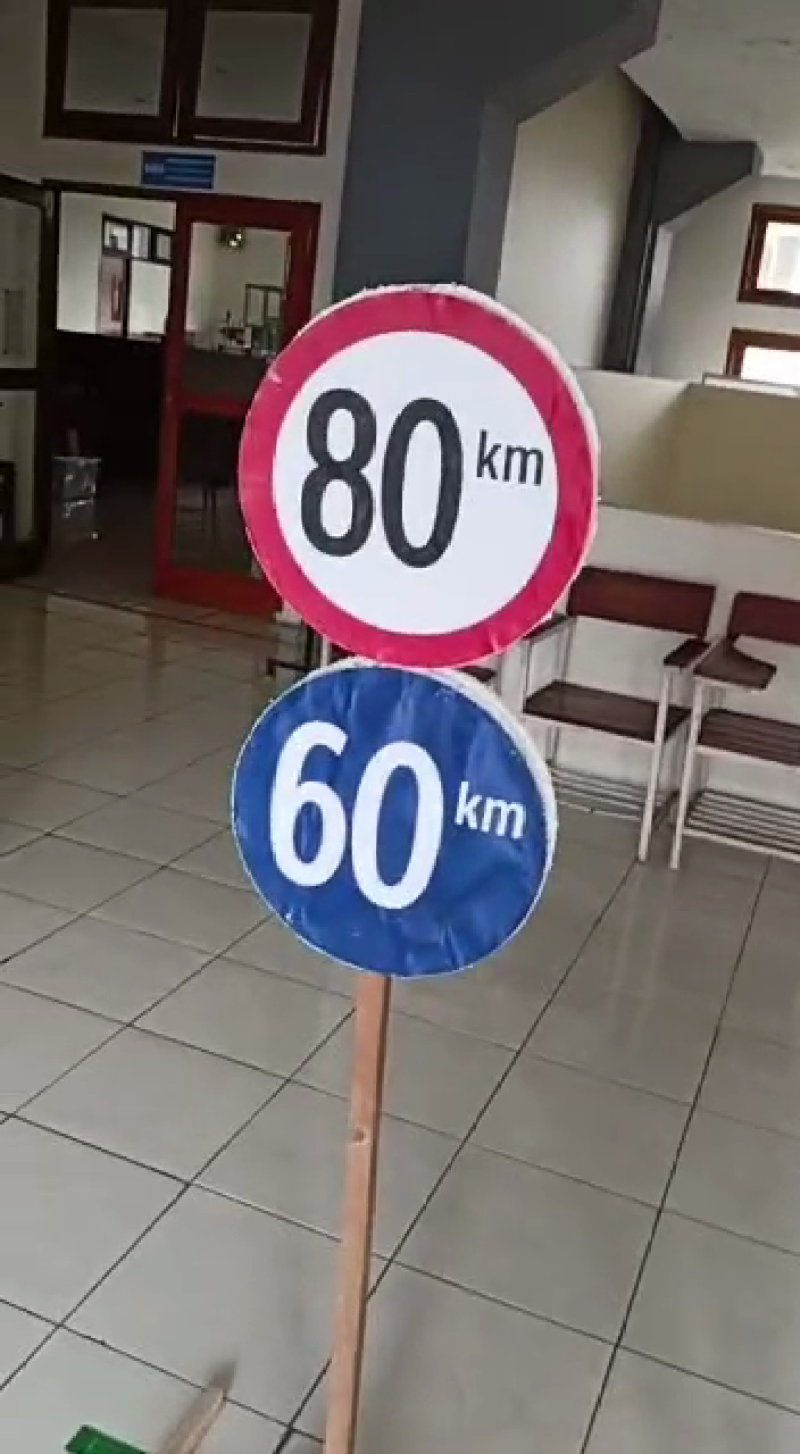batas maksimal 80kmperjam minimal 60kmperjam: (202, 274, 615, 987)
